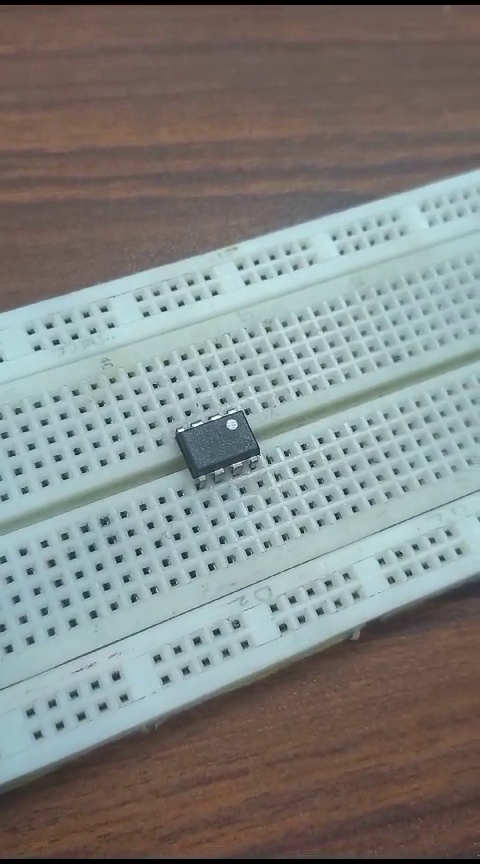IC: (154, 397, 268, 476)
